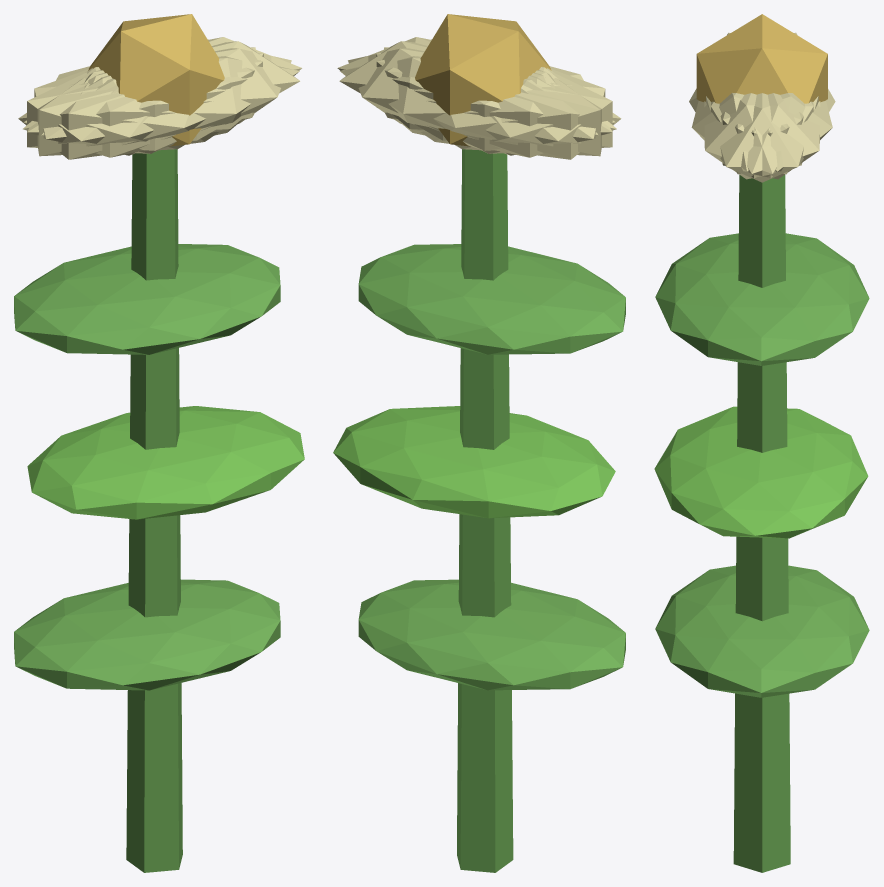
Rendered from coleus-scutellarioides.glb.
3 views of the same model, side by side, from view 1: azimuth 30°, elevation 25°; view 2: azimuth 150°, elevation 25°; view 3: azimuth 270°, elevation 25° (orthographic).
Parts seen in each view (by area): view 1: stem, leaf1, leaf2, leaf0, center, petal1, petal6, petal2, petal5, petal7, petal0, petal4 (+2 smaller); view 2: stem, leaf1, leaf2, leaf0, center, petal8, petal3, petal7, petal4, petal2, petal0, petal5 (+2 smaller); view 3: stem, leaf1, leaf2, leaf0, center, petal0, petal4, petal5, petal1, petal8.
Part boxes in pixels (bbox=[...]): stem: bbox=[126, 149, 182, 872]; leaf1: bbox=[27, 406, 304, 519]; leaf2: bbox=[14, 244, 280, 354]; leaf0: bbox=[14, 579, 280, 690]; center: bbox=[88, 14, 224, 146]; petal1: bbox=[23, 56, 299, 157]; petal6: bbox=[18, 68, 218, 159]; petal2: bbox=[37, 47, 255, 156]; petal5: bbox=[41, 48, 291, 150]; petal7: bbox=[27, 53, 263, 153]; petal0: bbox=[88, 41, 300, 140]; petal4: bbox=[24, 37, 301, 132]; stem: bbox=[457, 149, 513, 872]; leaf1: bbox=[333, 406, 615, 518]; leaf2: bbox=[358, 244, 625, 354]; leaf0: bbox=[358, 579, 625, 690]; center: bbox=[415, 14, 551, 146]; petal8: bbox=[340, 56, 616, 157]; petal3: bbox=[420, 68, 621, 159]; petal7: bbox=[384, 47, 601, 156]; petal4: bbox=[348, 48, 597, 150]; petal2: bbox=[376, 53, 612, 153]; petal0: bbox=[339, 41, 551, 140]; petal5: bbox=[337, 37, 615, 132]; stem: bbox=[733, 175, 790, 872]; leaf1: bbox=[654, 406, 868, 538]; leaf2: bbox=[655, 233, 869, 365]; leaf0: bbox=[655, 565, 869, 697]; center: bbox=[696, 14, 827, 103]; petal0: bbox=[706, 93, 818, 182]; petal4: bbox=[711, 93, 820, 179]; petal5: bbox=[704, 93, 813, 179]; petal1: bbox=[691, 93, 803, 171]; petal8: bbox=[720, 93, 832, 171].
Bounding box in the file's own units: 0.1498 × 0.4268 × 0.1004.
